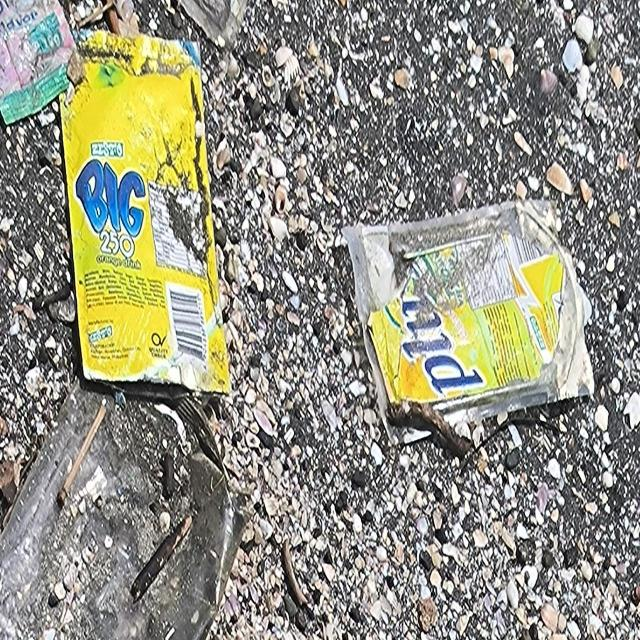plastic_waste: (58, 35, 235, 399), (339, 203, 593, 431), (0, 0, 76, 129)
